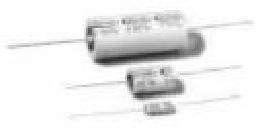Electrolytic-Capacitor: (7, 9, 252, 55), (66, 65, 250, 94), (134, 100, 187, 119)
